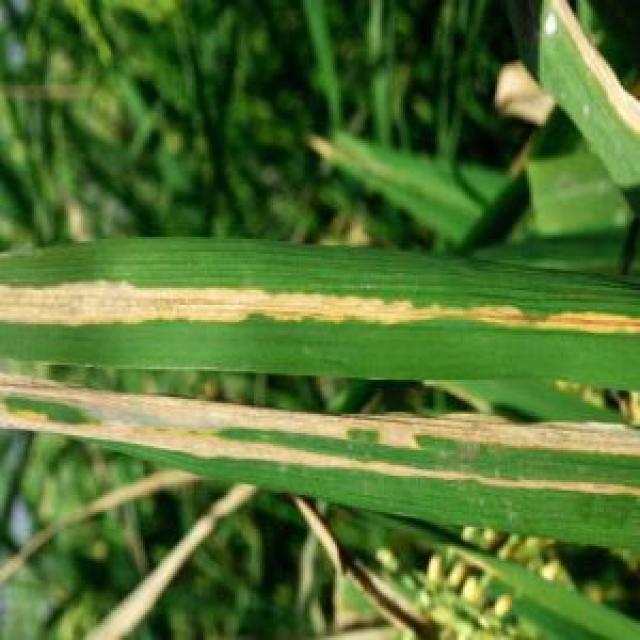leaf blight: (2, 373, 640, 514), (2, 277, 640, 346)
